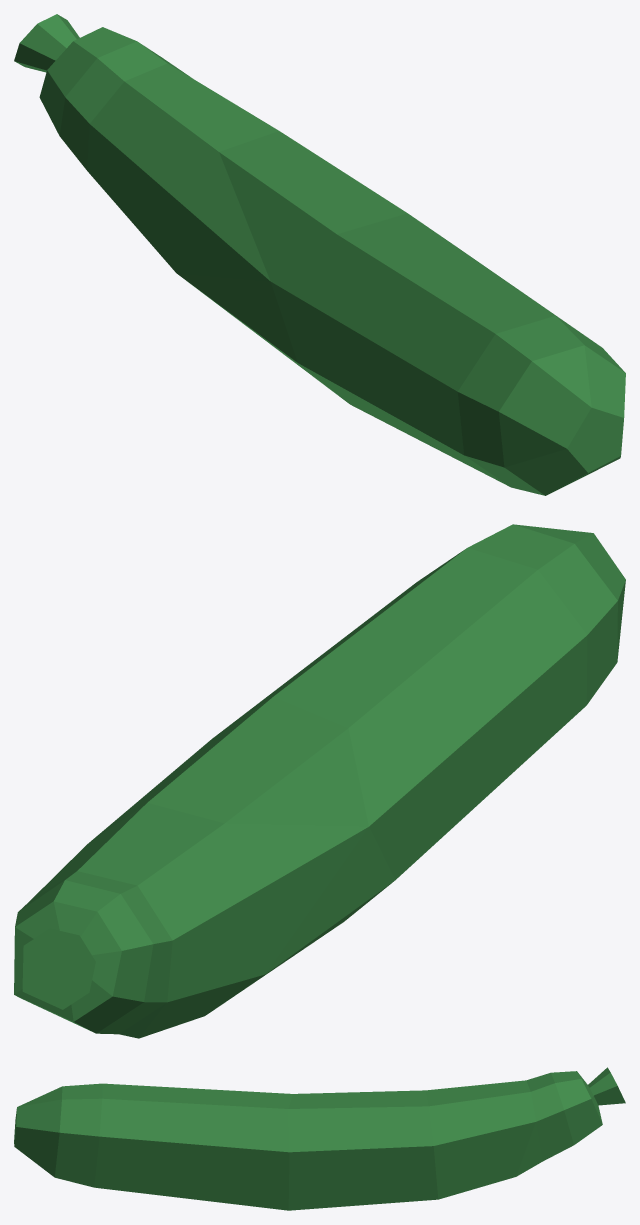
The model's file is Cucumber.fbx.
3 views of the same model, one above another, from view 1: azimuth 30°, elevation 25°; view 2: azimuth 150°, elevation 25°; view 3: azimuth 270°, elevation 25° (orthographic). The views are drawn at different scales.
Visible parts, largest first — view 1: Cucumber_Harvest; view 2: Cucumber_Harvest; view 3: Cucumber_Harvest.
Part boxes in pixels (x1,y1,x2,y2): Cucumber_Harvest: (14, 14, 625, 495); Cucumber_Harvest: (14, 524, 625, 1038); Cucumber_Harvest: (14, 1067, 625, 1210).
Size of the model in its own units: 3.75 by 4.14 by 19.39.
